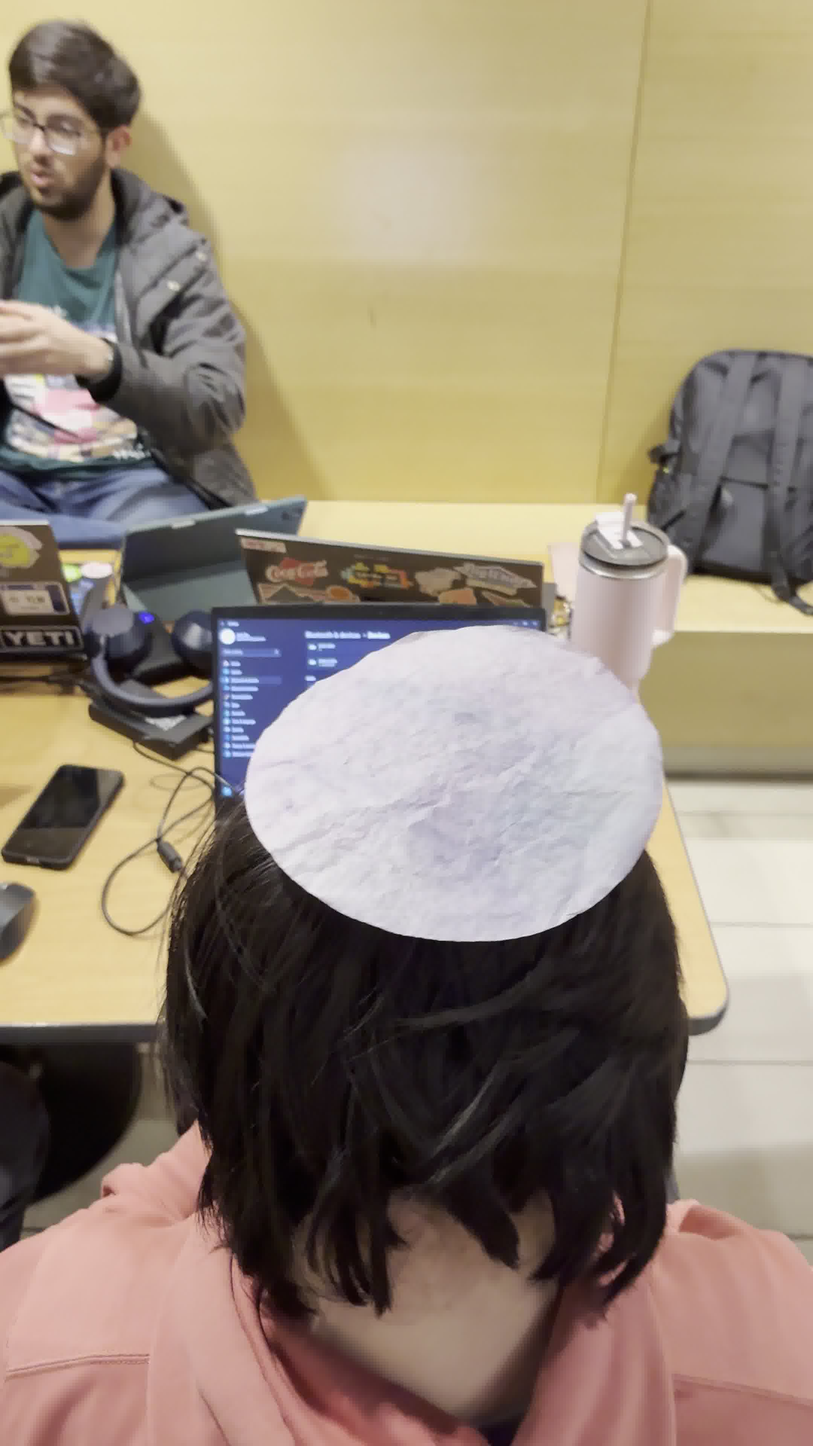Target: (242, 622, 662, 944)
